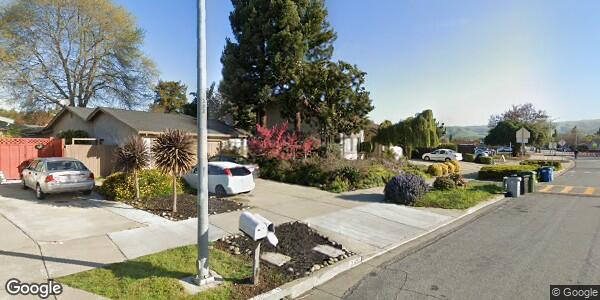Steel_Pole: (177, 1, 230, 297)
